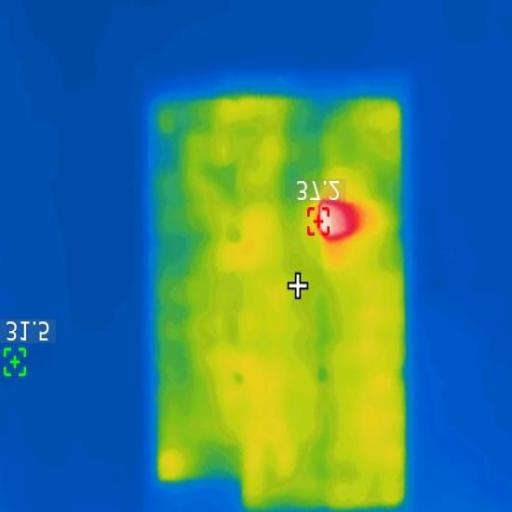hotspot: (309, 196, 370, 248)
